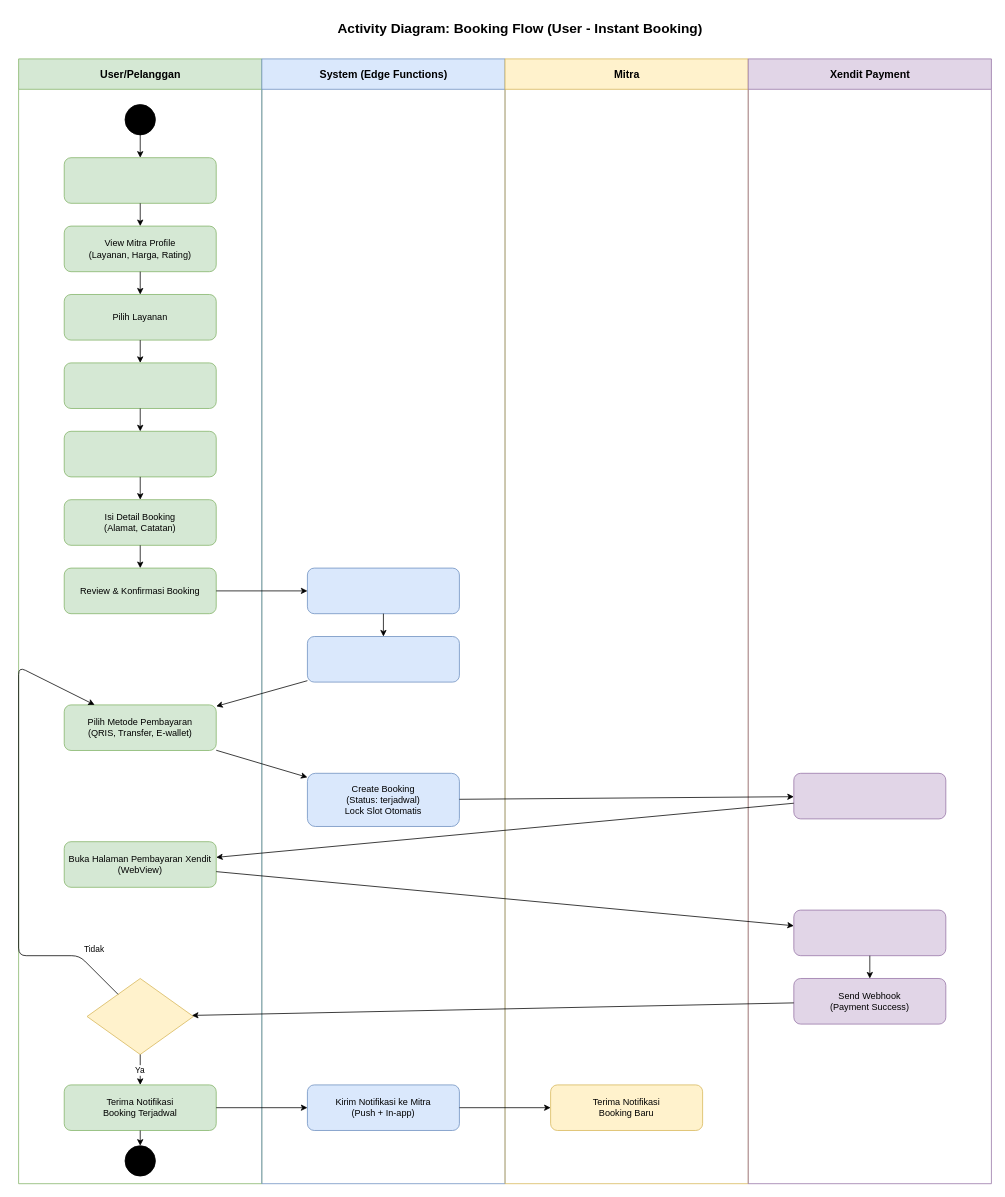
Some shapes in this 1005 by 1197 pixel diagram are drawn without their labels. The centre of each missing label's shape, as x and y in pixels:
"Browse & Search Mitra" goes at [139,180].
"Generate Invoice (Invoice URL)" goes at [869,796].
"Hitung Total (Subtotal + Platform Fee)" goes at [383,659].
"Pembayaran Berhasil?" goes at [139,1016].
"Pilih Slot Jam Tersedia (Slot penuh tidak bisa dipilih)" goes at [139,454].
"Pilih Tanggal dari Kalender (Hanya hari buka mitra)" goes at [139,385].
"Process Payment (QRIS/Transfer/E-wallet)" goes at [869,932].
"Validasi Slot Tersedia" goes at [383,590].
